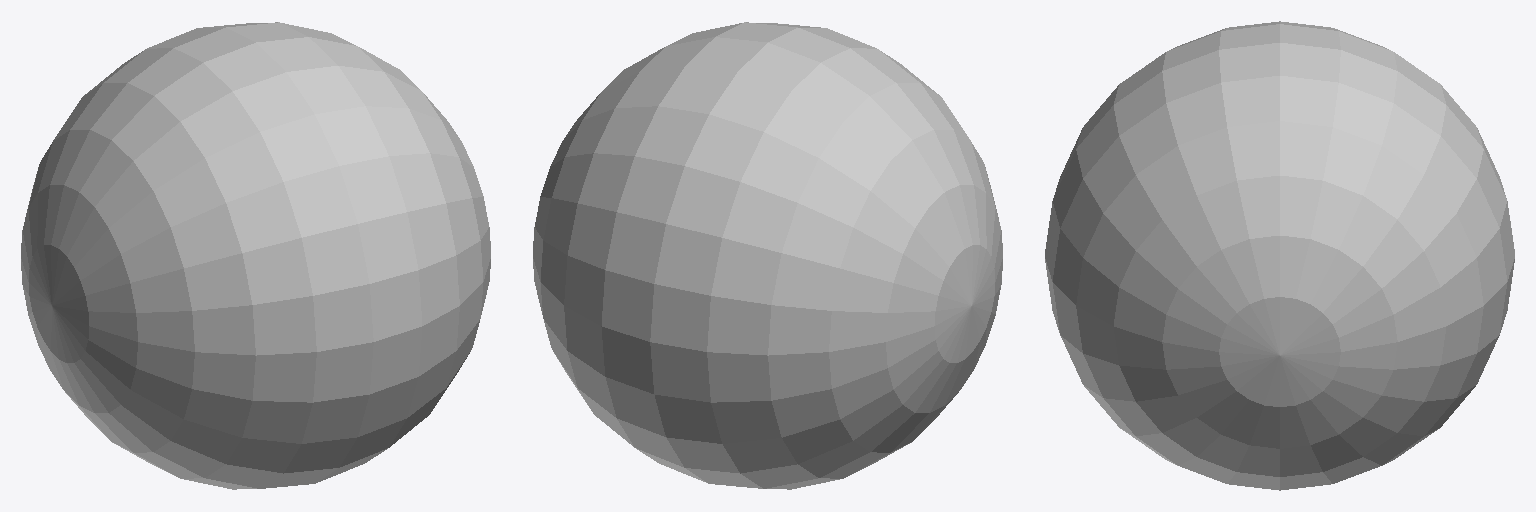
The model's file is egg.obj.
3 views of the same model, side by side, from view 1: azimuth 30°, elevation 25°; view 2: azimuth 150°, elevation 25°; view 3: azimuth 270°, elevation 25° (orthographic).
Visible parts, largest first — view 1: default; view 2: default; view 3: default.
Boxes of the visible parts, <box> form: default: <box>21,22,490,489</box>; default: <box>533,22,1002,489</box>; default: <box>1045,21,1514,490</box>.
Bounding box in the file's own units: 0.5 × 0.5 × 0.5.